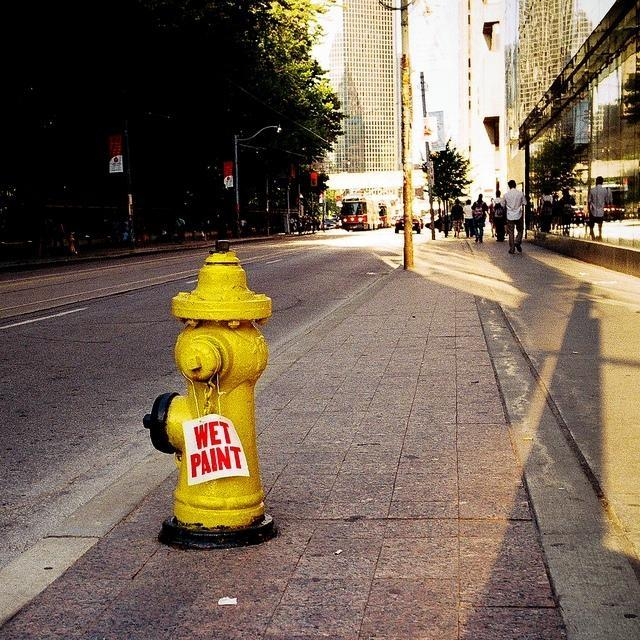bus: (340, 198, 380, 232)
car: (394, 213, 422, 234), (425, 218, 440, 228)
